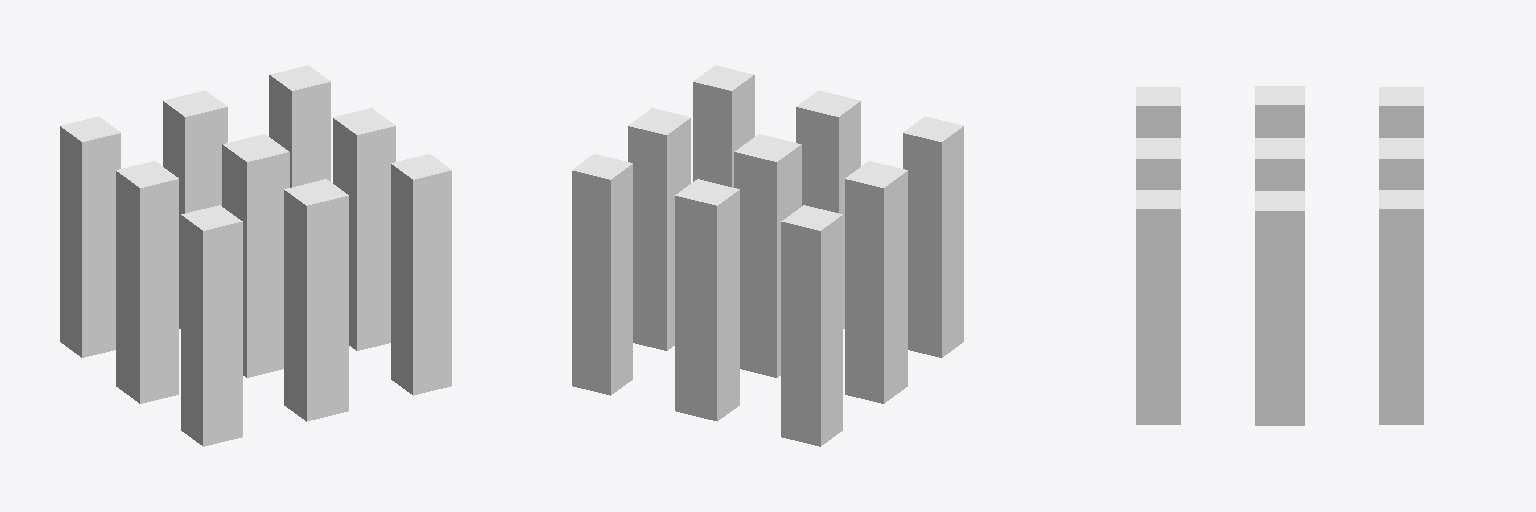
File: basement_holes_spikes.obj
3 views of the same model, side by side, from view 1: azimuth 30°, elevation 25°; view 2: azimuth 150°, elevation 25°; view 3: azimuth 270°, elevation 25° (orthographic).
Bounding box in the file's own units: 72 × 58 × 70.